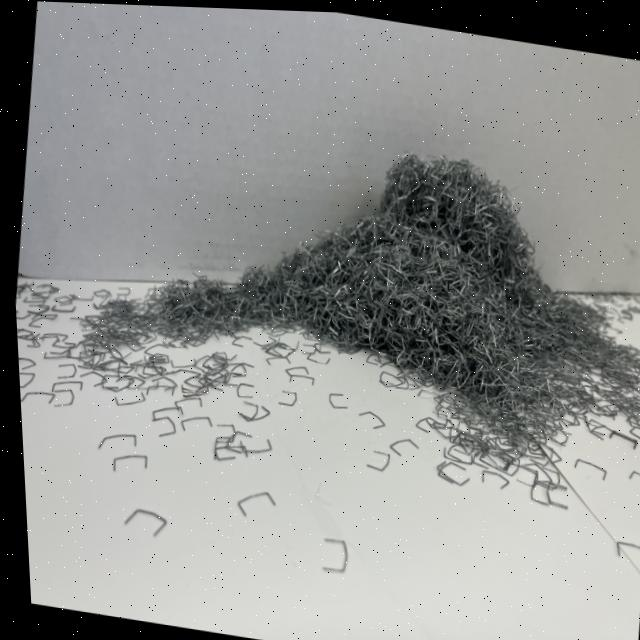staples: (78, 97, 640, 481)
